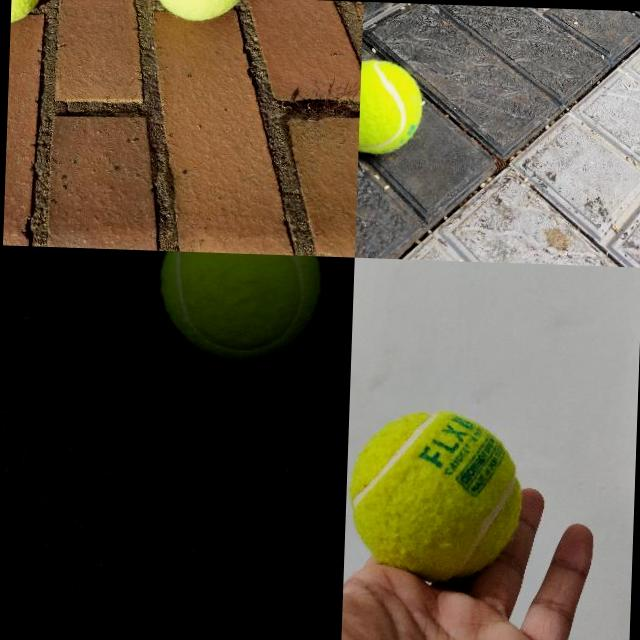Tennis Ball: (346, 408, 525, 584), (156, 250, 322, 363), (358, 56, 425, 156), (149, 0, 248, 24)
